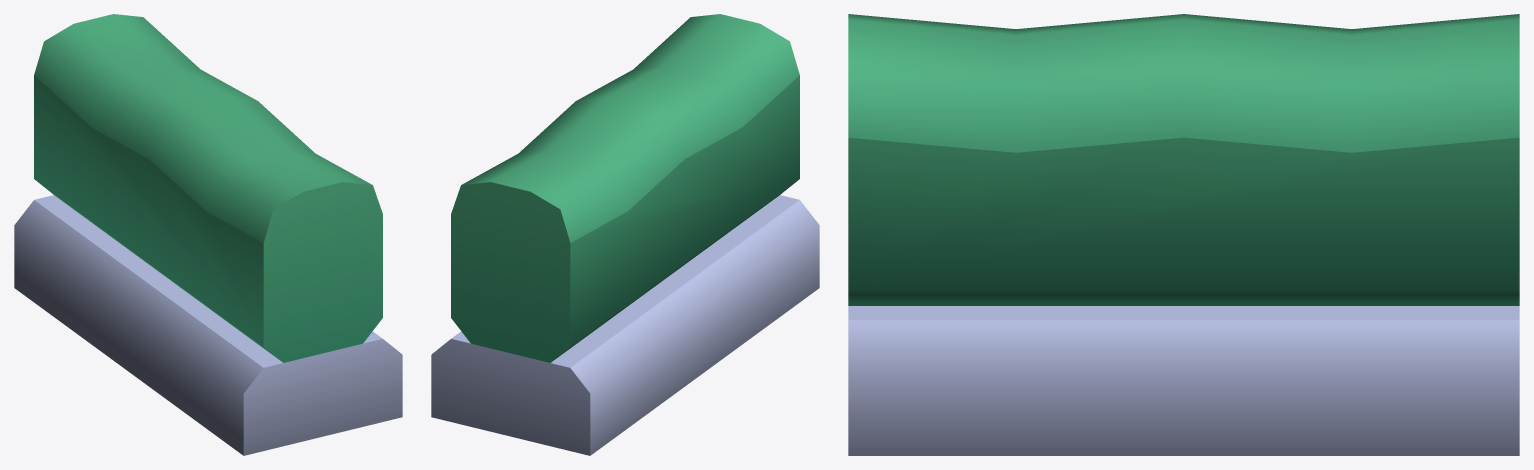
File: k-hedge-large.glb
3 renders of one model, left to right at view 1: azimuth 30°, elevation 25°; view 2: azimuth 150°, elevation 25°; view 3: azimuth 270°, elevation 25°, orthographic. The views are drawn at different scales.
Parts seen in each view (by area): view 1: hedge-large; view 2: hedge-large; view 3: hedge-large.
Boxes of the visible parts, <box> form: hedge-large: <box>14,14,402,455</box>; hedge-large: <box>431,14,819,455</box>; hedge-large: <box>848,14,1519,455</box>.
Bounding box in the file's own units: 0.3999 × 0.6001 × 1.
1 material, 1 textured.
